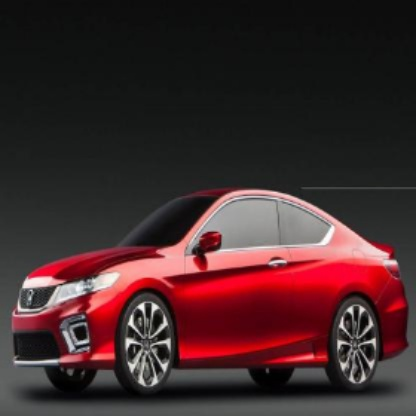Vehicle: (13, 188, 408, 397)
